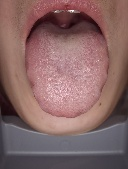tongue: (23, 35, 110, 118)
